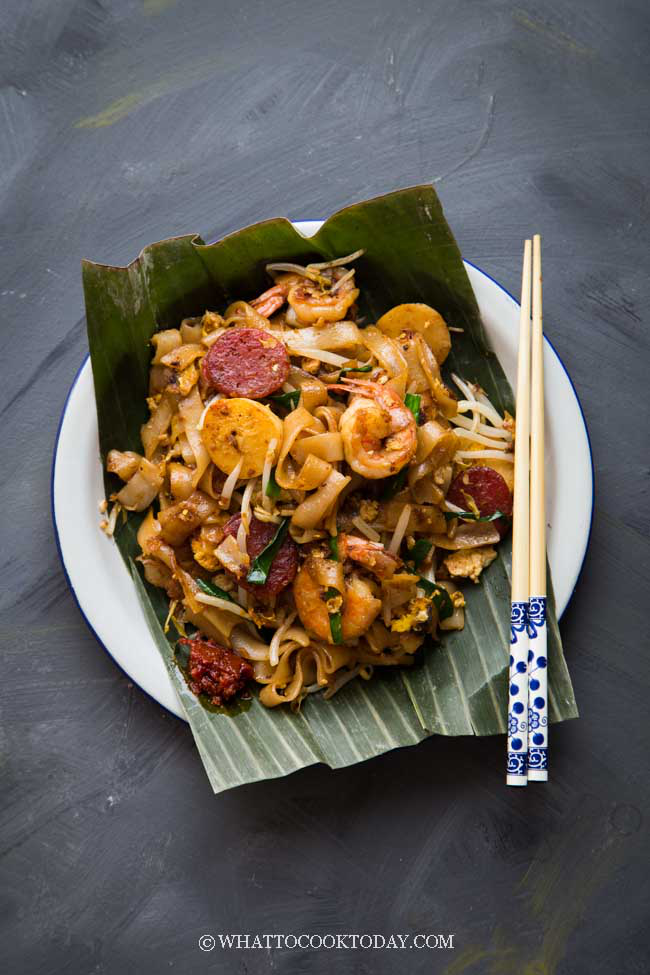Char Kway Teow: (106, 283, 518, 700)
